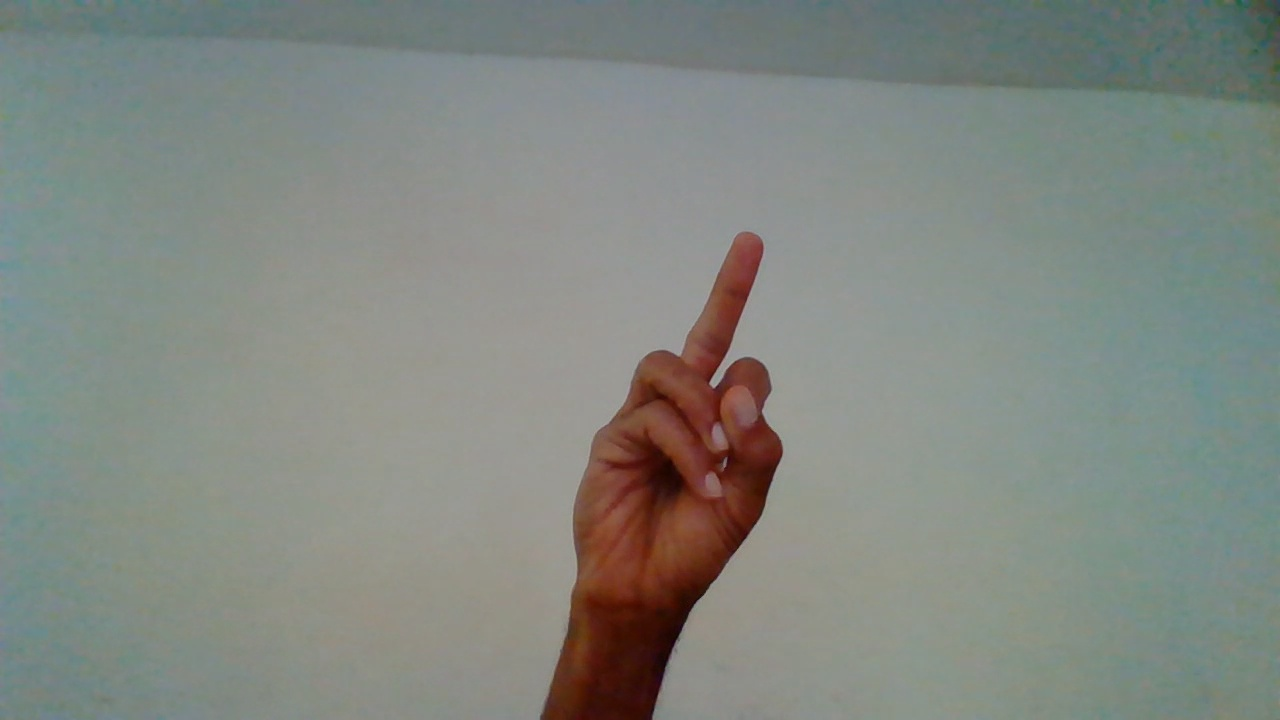he: (567, 232, 785, 668)
